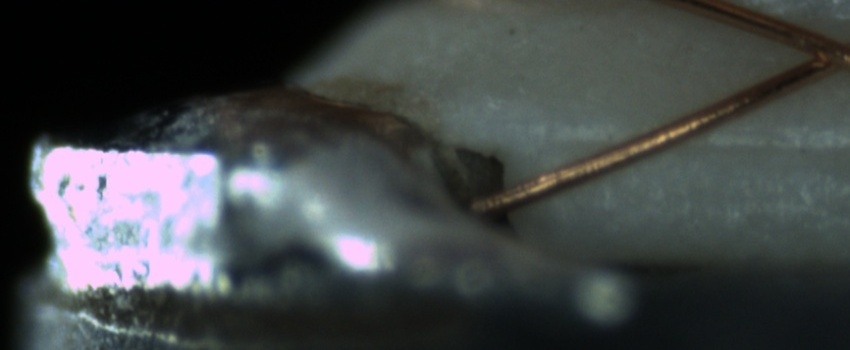CL: (778, 20, 848, 81)
DL: (536, 111, 850, 176)
